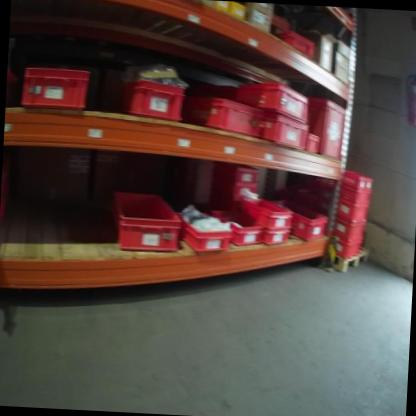pallet: (326, 246, 373, 275)
small_load_carrier: (182, 89, 268, 145), (109, 187, 184, 250), (235, 75, 311, 126), (20, 63, 92, 113), (269, 195, 329, 246), (116, 79, 186, 121), (305, 95, 348, 162), (175, 202, 230, 252), (260, 109, 311, 151), (239, 195, 294, 228), (218, 204, 259, 246), (282, 28, 318, 60), (209, 181, 259, 204), (215, 163, 260, 185), (339, 169, 376, 193), (330, 238, 366, 261), (258, 225, 292, 249), (334, 201, 369, 223), (334, 221, 368, 239), (339, 185, 371, 204), (304, 132, 320, 155)
